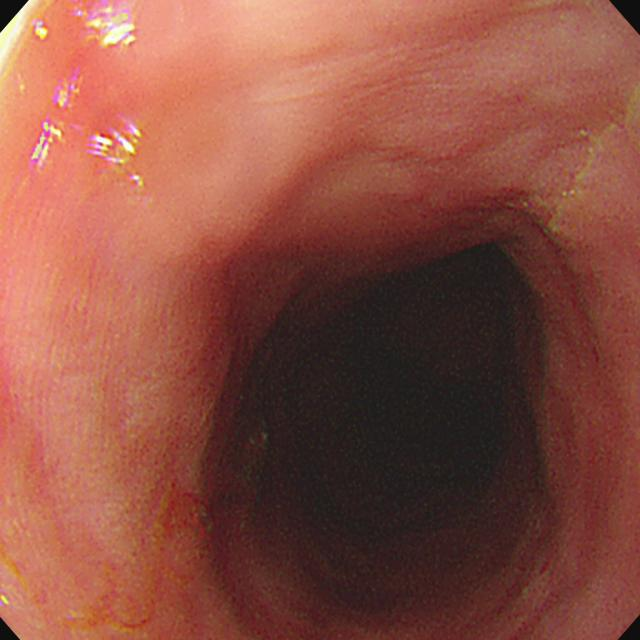U: (80, 5, 140, 48), (90, 122, 143, 166), (32, 121, 62, 167), (58, 73, 83, 110), (32, 22, 51, 43)
